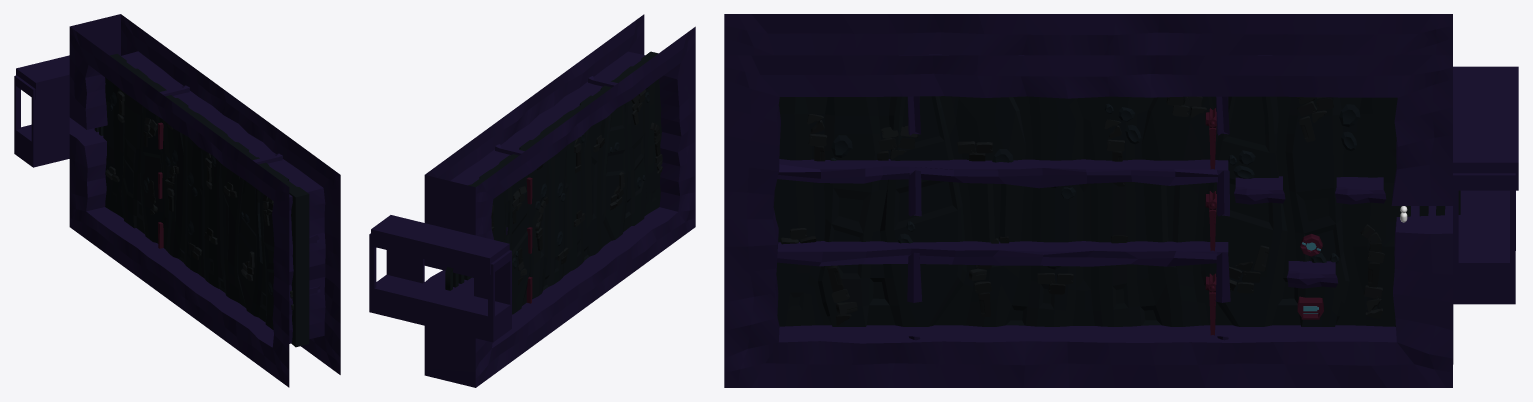
The model's file is DesignWeekAssetsAll.fbx.
The picture shows the model from 3 angles, left to right: view 1: azimuth 30°, elevation 25°; view 2: azimuth 150°, elevation 25°; view 3: azimuth 270°, elevation 25°; orthographic projection. The views are drawn at different scales.
Parts seen in each view (by area): view 1: Box223, Wall001; view 2: Box223, Wall001; view 3: Box223, Wall001, Box228, Box227, Box226, Box229, Box236, Box233, Box235.
Part boxes in pixels (left/top/right/bottom): Box223: left=14, top=14, right=340, bottom=387; Wall001: left=94, top=53, right=309, bottom=347; Box223: left=369, top=14, right=695, bottom=387; Wall001: left=445, top=51, right=661, bottom=314; Box223: left=724, top=14, right=1518, bottom=387; Wall001: left=773, top=96, right=1460, bottom=326; Box228: left=777, top=241, right=1217, bottom=266; Box227: left=777, top=159, right=1217, bottom=188; Box226: left=1215, top=96, right=1230, bottom=340; Box229: left=907, top=96, right=922, bottom=340; Box236: left=1335, top=177, right=1386, bottom=204; Box233: left=1286, top=261, right=1338, bottom=288; Box235: left=1234, top=176, right=1285, bottom=204.
Size of the model in its own units: 1888 by 2920 by 6321.
